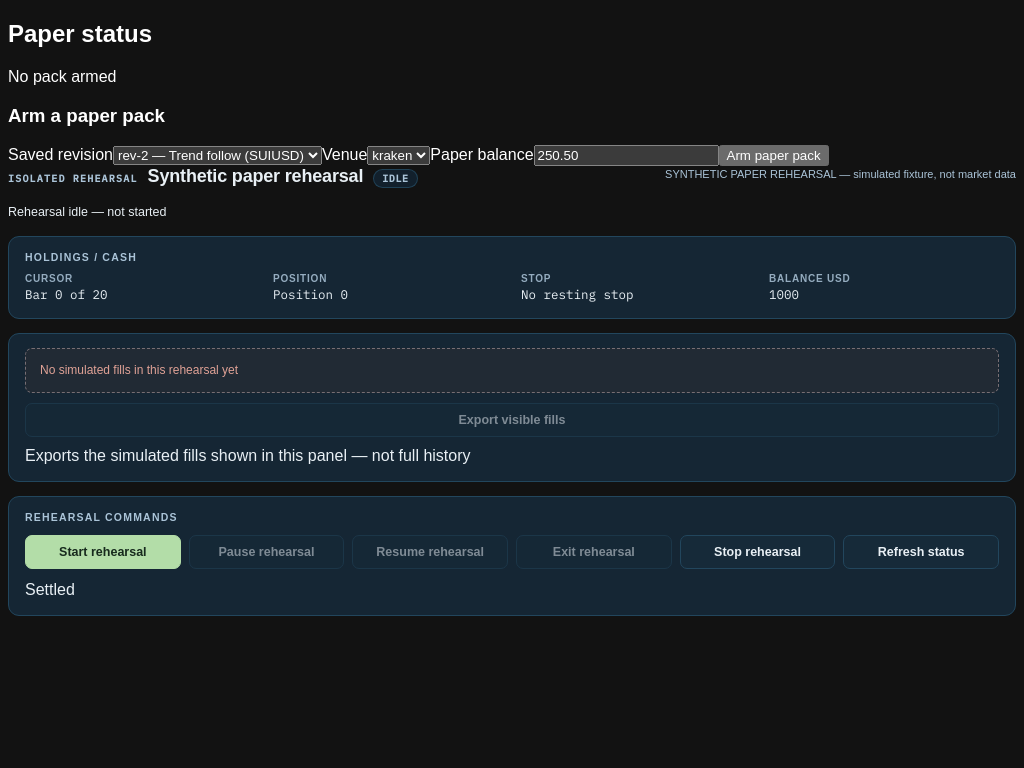
StatusPanel-mounted Synthetic paper rehearsal tracer › polls the backend while running and stops polling when the read fails
This screenshot has width=1024, height=768.
Click the button "Start rehearsal": {"x": 103, "y": 552} x1=25 y1=535 x2=181 y2=569
Wait 8601 ms
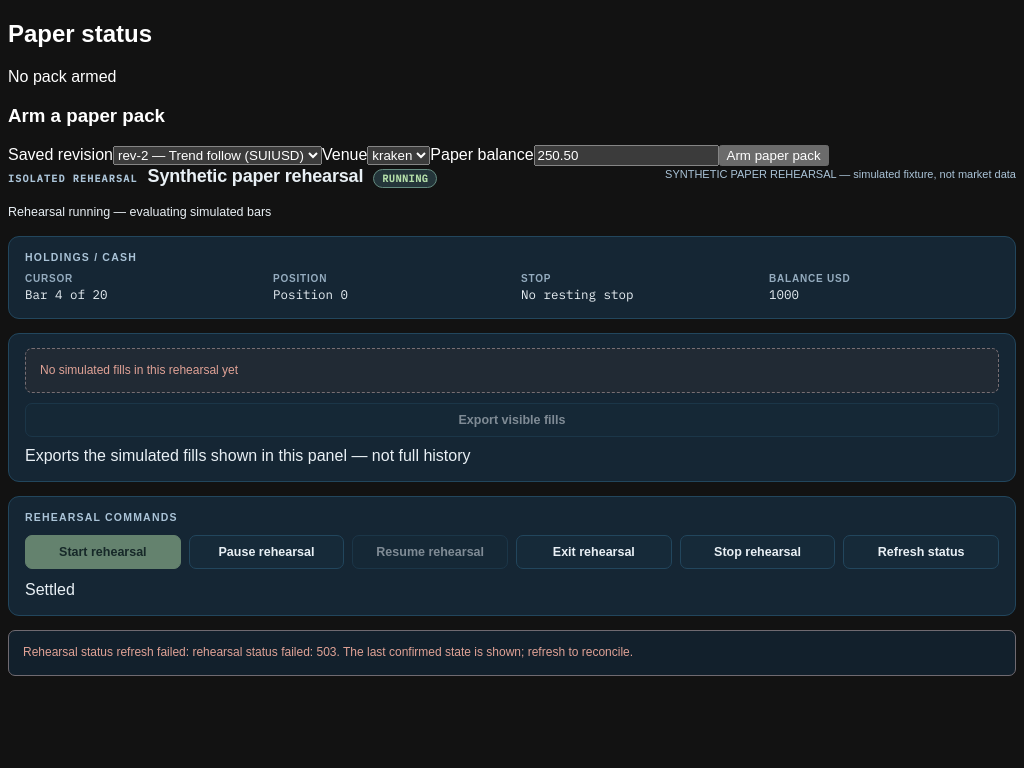
Check: the message with test id "rehearsal-unknown" shows "Rehearsal status refresh failed", box x1=23 y1=645 x2=633 y2=659
